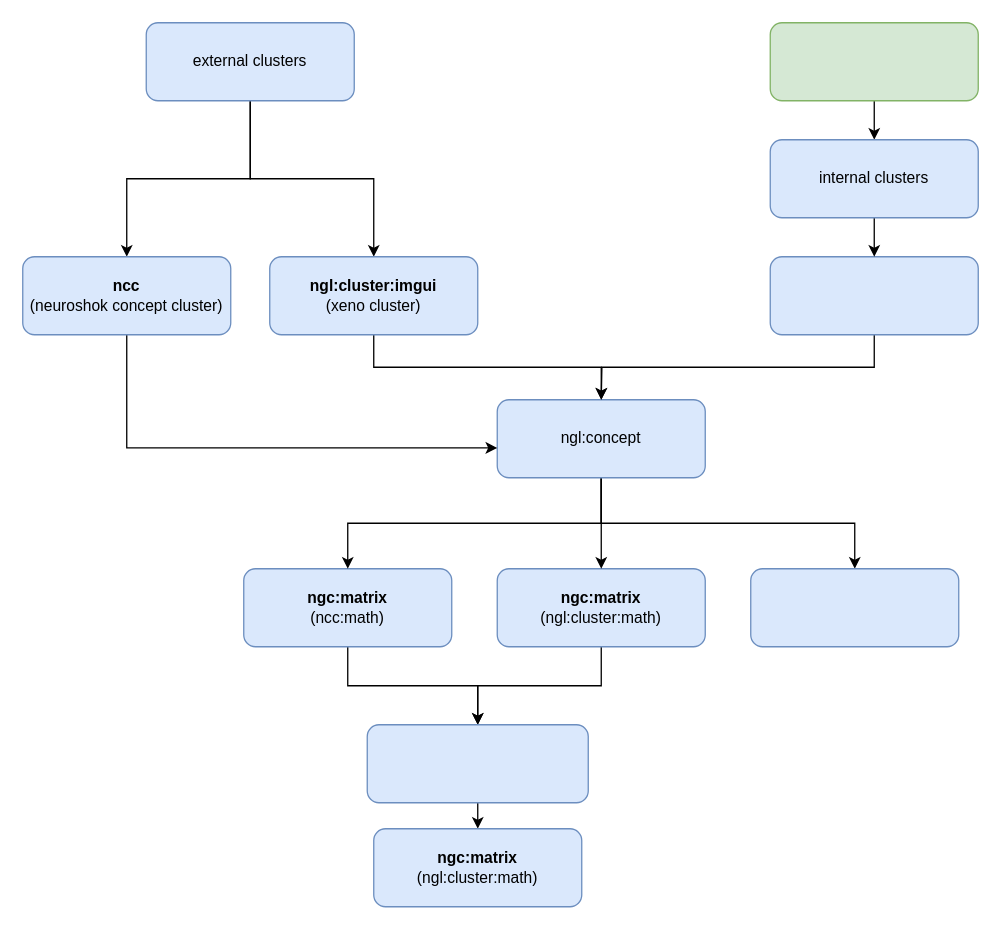
Image size: 1001x929. Some labels were removed from this diagram. Each missing label, with the centre of its shape:
"ngc:color (ngl:cluster:imgui)" goes at pixel 854 607.
"ngl:cluster:math (RaZ cluster)" goes at pixel 873 295.
"ngl:cluster:use<matrix, ngl> (Explicit resolution)" goes at pixel 477 763.
"RaZ program" goes at pixel 873 61.
